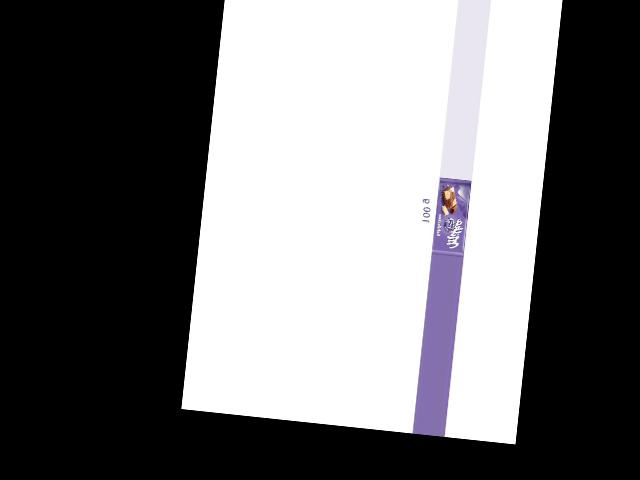chocolate: (430, 176, 472, 257)
